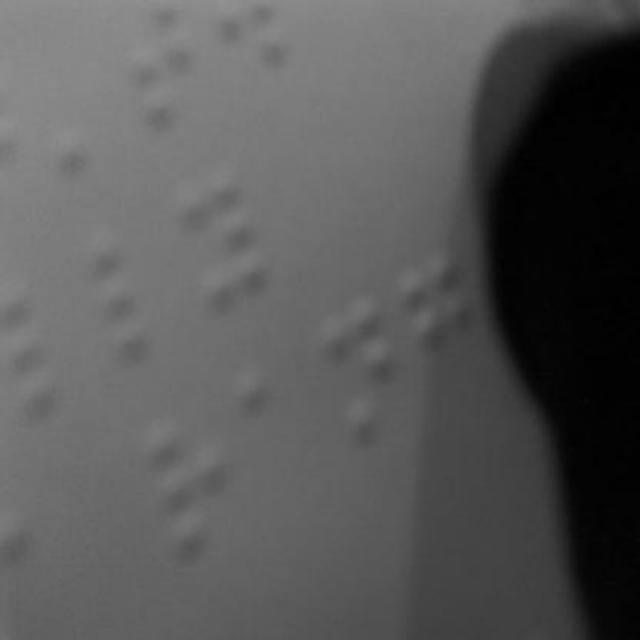braiile: (386, 249, 492, 415), (178, 174, 270, 310), (90, 235, 184, 365), (324, 286, 404, 438), (148, 418, 236, 554), (5, 280, 91, 412)
